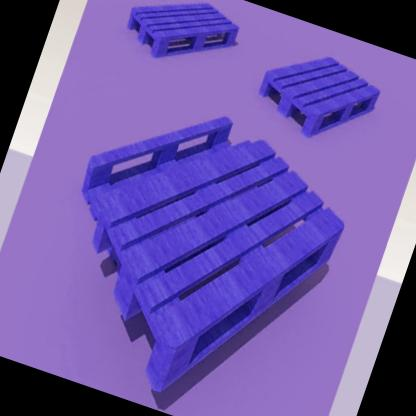BoxFace: (92, 137, 347, 397), (256, 53, 382, 143), (124, 1, 241, 66)
